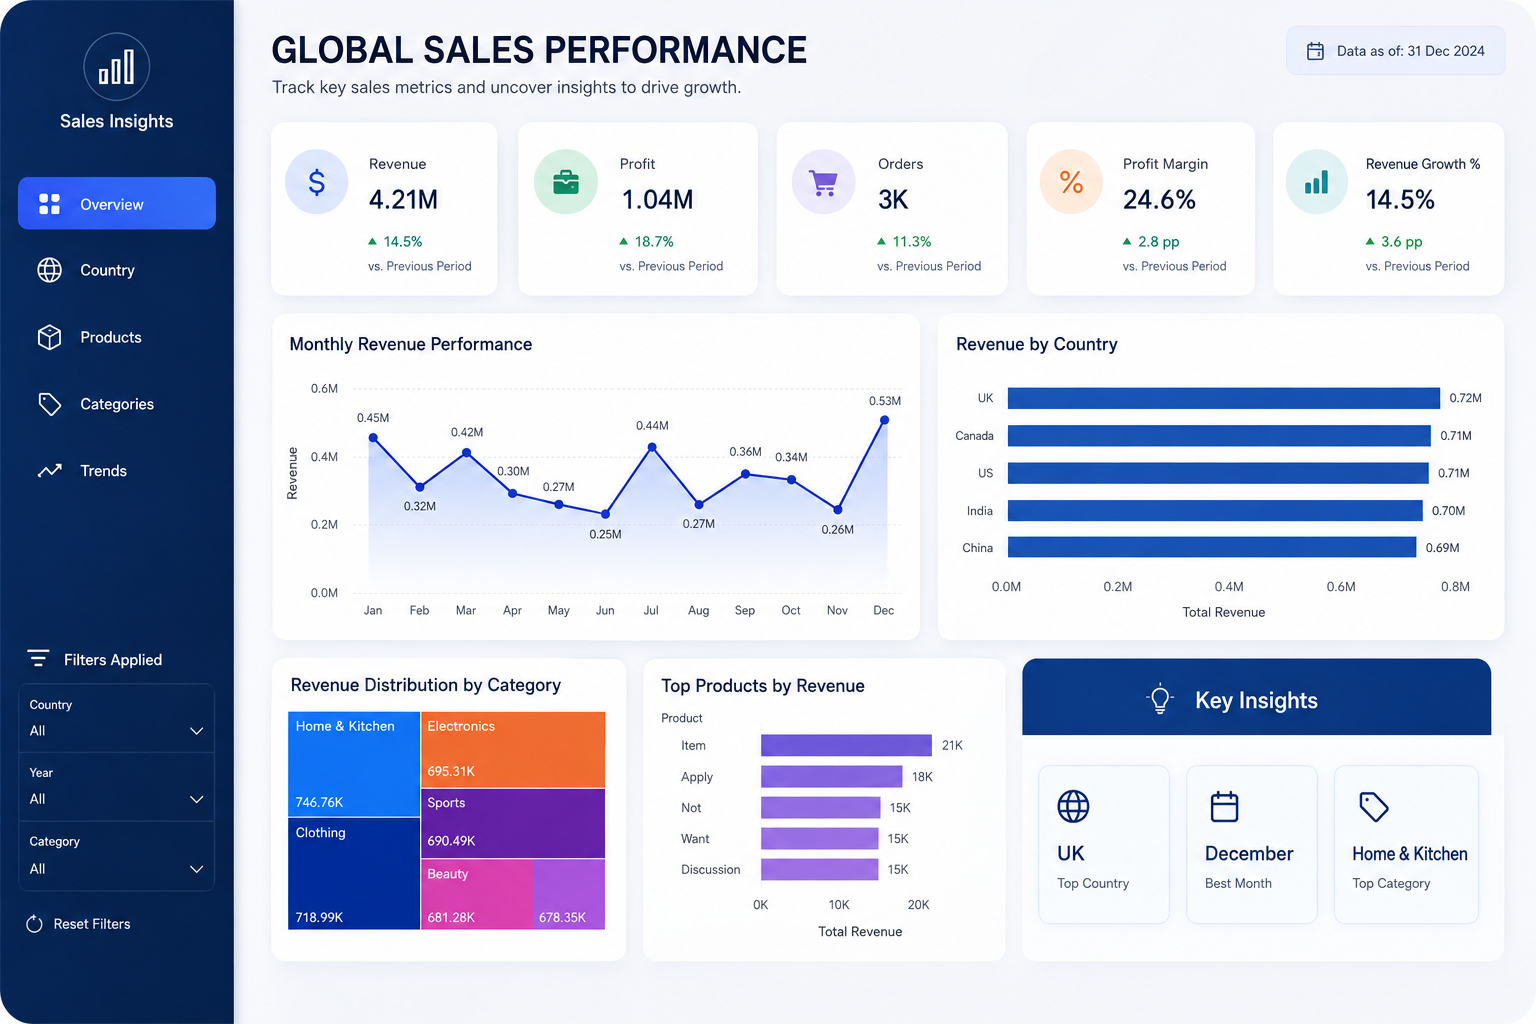

This screenshot's page, from the dashboard's own definition file:
{"tool":"powerbi","page":{"name":"Page 1","canvas":[1280,720],"ordinal":0},"visuals":[{"type":"textbox","box":[379.1,8.9,520.8,52.3],"z":0},{"type":"cardVisual","title":"Revenue","fields":{"Data":["public Sales_Data.Total Revenue"]},"box":[46,153.2,214.4,125.1],"z":1000},{"type":"cardVisual","title":"Profit","fields":{"Data":["public Sales_Data.Total Profit"]},"box":[261.7,146.8,214.4,125.1],"z":2000},{"type":"cardVisual","title":"Orders","fields":{"Data":["public Sales_Data.Total Orders"]},"box":[532.3,153.2,214.4,125.1],"z":3000},{"type":"cardVisual","title":"Profit Margin","fields":{"Data":["public Sales_Data.Profit Margin"]},"box":[746.7,153.2,213.2,125.1],"z":4000},{"type":"lineChart","title":"Monthly Revenue Performance","fields":{"Y":["public Sales_Data.Total Revenue"],"Category":["DateTable.Month"]},"box":[20.4,278.3,587.2,203],"z":5000},{"type":"clusteredBarChart","title":"Revenue by Country","fields":{"Category":["public Sales_Data.Country"],"Y":["public Sales_Data.Total Revenue"]},"box":[638.2,278.3,599.9,194],"z":6000},{"type":"treemap","title":"Revenue Distribution by Category","fields":{"Group":["public Sales_Data.Category"],"Values":["public Sales_Data.Total Revenue"]},"box":[20.4,497.8,288.5,200.4],"z":7000},{"type":"slicer","title":"Country","fields":{"Values":["public Sales_Data.Country"]},"box":[102.5,60.8,300.4,79.9],"z":8000},{"type":"barChart","title":"Top Products by Revenue","fields":{"Category":["public Sales_Data.Product_Name"],"Y":["public Sales_Data.Total Revenue"]},"box":[308.9,497.8,298.7,200.4],"z":9000},{"type":"cardVisual","title":"Revenue Growth %","fields":{"Data":["public Sales_Data.Revenue Growth"]},"box":[988,153.2,231,125.1],"z":10000},{"type":"slicer","title":"Year ","fields":{"Values":["DateTable.Year"]},"box":[488.7,60.8,299.2,79.9],"z":11000},{"type":"slicer","title":"Category","fields":{"Values":["public Sales_Data.Category"]},"box":[900,60.8,300.4,79.9],"z":12000},{"type":"shape","box":[607.6,472.3,661.2,225.9],"z":13000},{"type":"textbox","box":[805,490,270,56.7],"z":14000},{"type":"cardVisual","fields":{"Data":["public Sales_Data.Top Country"]},"box":[623.3,560,168.3,100],"z":15000},{"type":"cardVisual","fields":{"Data":["public Sales_Data.Best Month"]},"box":[798.3,560,211.7,100],"z":16000},{"type":"cardVisual","fields":{"Data":["public Sales_Data.Top Category"]},"box":[1018.3,561.7,235,100],"z":17000}]}

Visuals, with their boxes on the page's 1280x720 design canvas (x1, y1, x2, y2). These are canvas units, not pixel positions in the 1536x1024 screenshot, which may show the page scaled, cropped or inside an application window:
textbox: x1=379, y1=9, x2=900, y2=61
"Revenue" cardVisual: x1=46, y1=153, x2=260, y2=278
"Profit" cardVisual: x1=262, y1=147, x2=476, y2=272
"Orders" cardVisual: x1=532, y1=153, x2=747, y2=278
"Profit Margin" cardVisual: x1=747, y1=153, x2=960, y2=278
"Monthly Revenue Performance" lineChart: x1=20, y1=278, x2=608, y2=481
"Revenue by Country" clusteredBarChart: x1=638, y1=278, x2=1238, y2=472
"Revenue Distribution by Category" treemap: x1=20, y1=498, x2=309, y2=698
"Country" slicer: x1=102, y1=61, x2=403, y2=141
"Top Products by Revenue" barChart: x1=309, y1=498, x2=608, y2=698
"Revenue Growth %" cardVisual: x1=988, y1=153, x2=1219, y2=278
"Year " slicer: x1=489, y1=61, x2=788, y2=141
"Category" slicer: x1=900, y1=61, x2=1200, y2=141
shape: x1=608, y1=472, x2=1269, y2=698
textbox: x1=805, y1=490, x2=1075, y2=547
cardVisual - public Sales_Data.Top Country: x1=623, y1=560, x2=792, y2=660
cardVisual - public Sales_Data.Best Month: x1=798, y1=560, x2=1010, y2=660
cardVisual - public Sales_Data.Top Category: x1=1018, y1=562, x2=1253, y2=662
